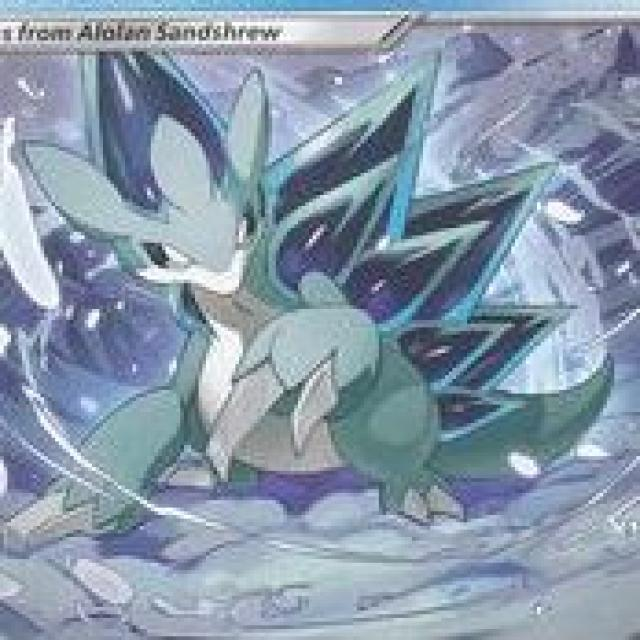Alolan: (39, 50, 515, 527)
